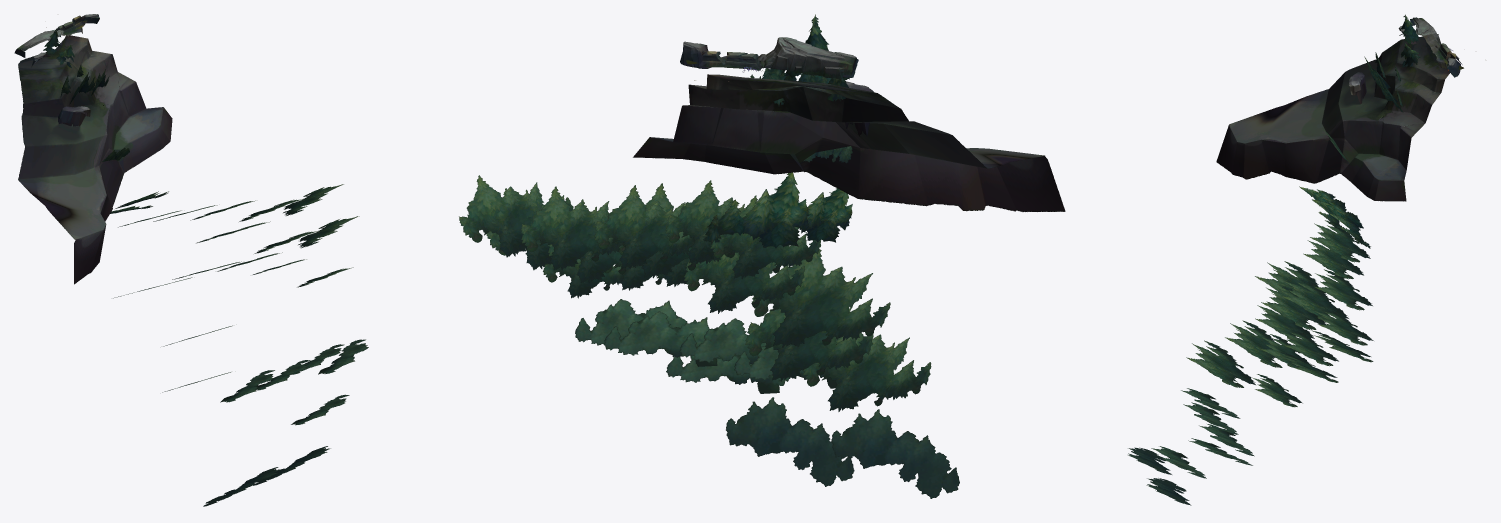
Rendered from MapObject_4.FBX.
The picture shows the model from 3 angles, left to right: view 1: azimuth 30°, elevation 25°; view 2: azimuth 150°, elevation 25°; view 3: azimuth 270°, elevation 25°; orthographic projection. The views are drawn at different scales.
Parts seen in each view (by area): view 1: polySurfaceMapGeoMesh176; view 2: polySurfaceMapGeoMesh176; view 3: polySurfaceMapGeoMesh176.
Part boxes in pixels (box(x1,y1,x2,y2)): polySurfaceMapGeoMesh176: box(14, 14, 368, 506); polySurfaceMapGeoMesh176: box(459, 14, 1065, 498); polySurfaceMapGeoMesh176: box(1128, 14, 1463, 505).
Size of the model in its own units: 6513 by 7411 by 6060.
